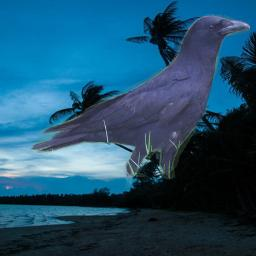Crow: (29, 14, 250, 193)
